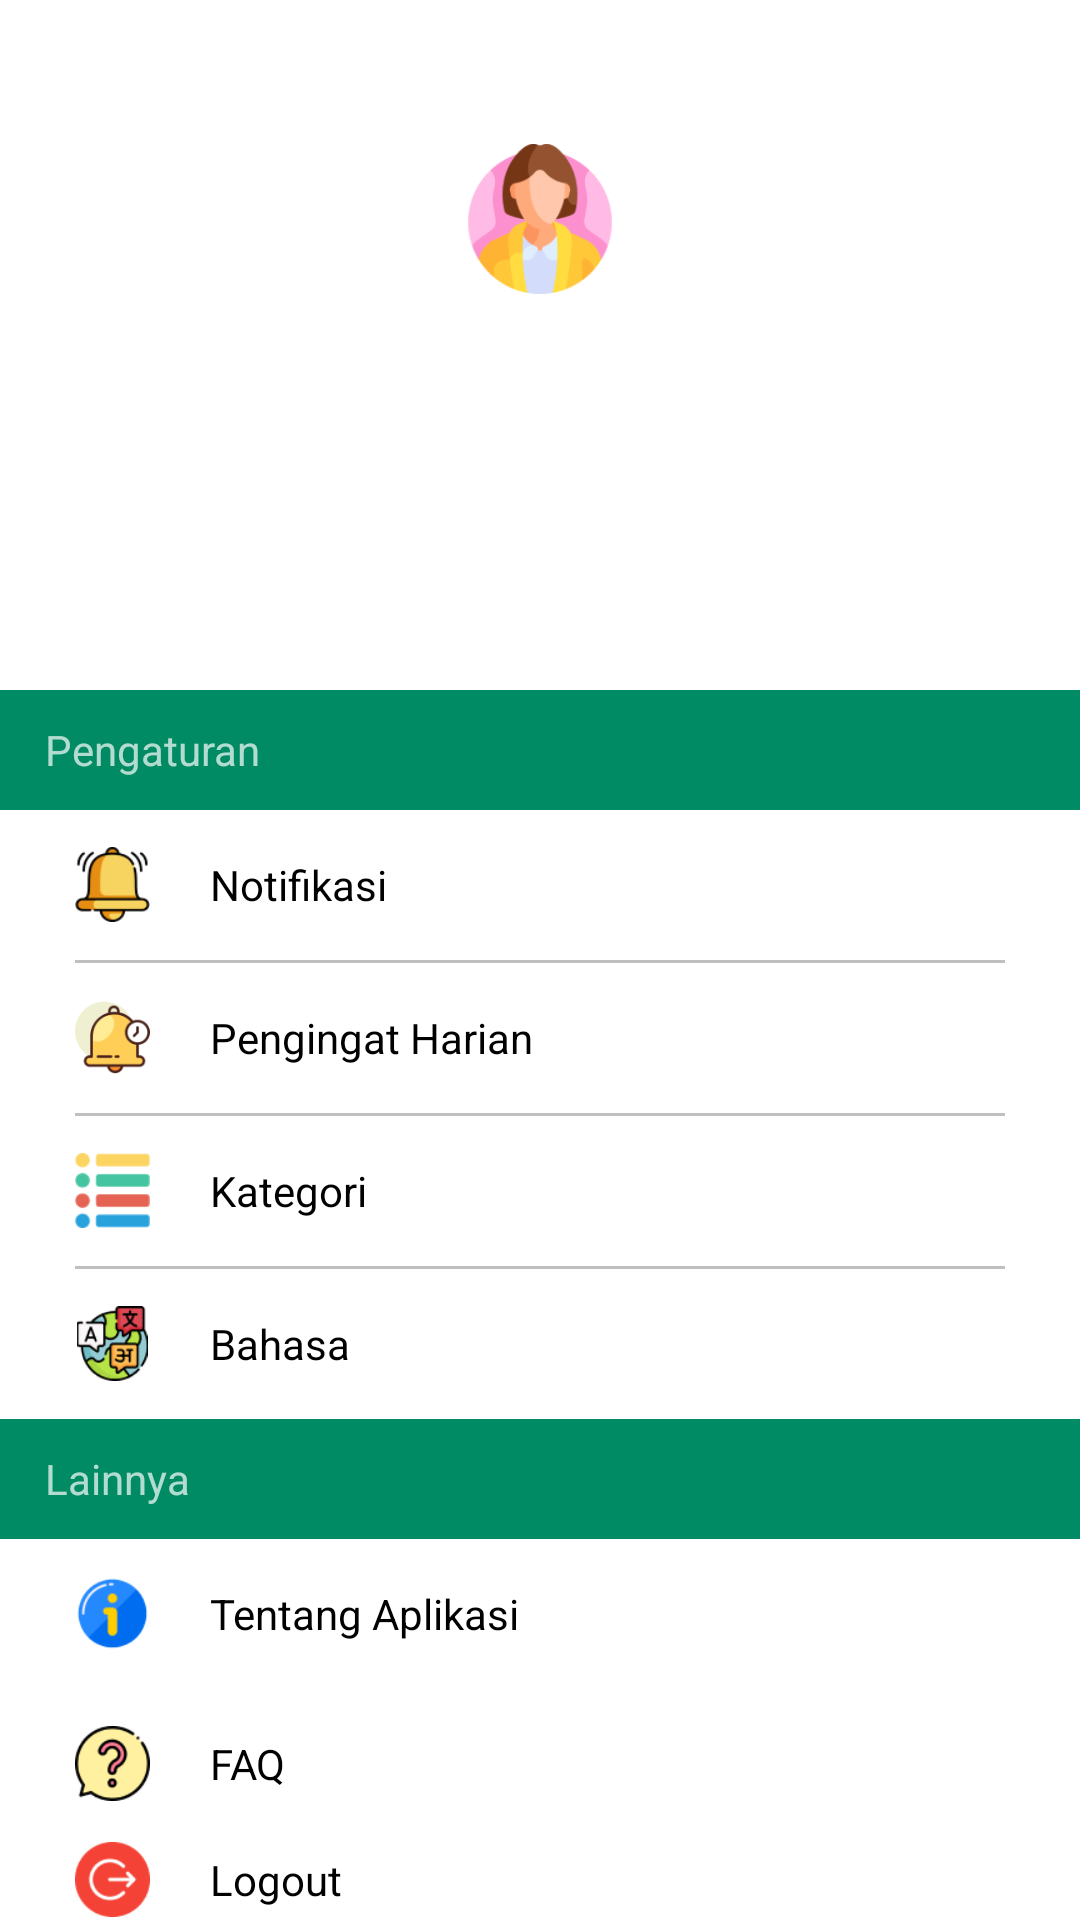

Where icons sit on this 1080 × 1920 app screen, as (x1, y1, x2, y2):
about: (77, 1578, 147, 1648)
reminder: (75, 1002, 150, 1074)
